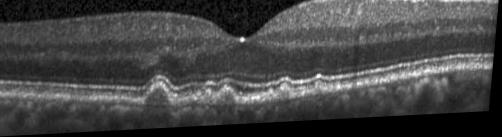retinal_drusen: (147, 89, 174, 110), (219, 93, 238, 108), (278, 90, 292, 101), (316, 86, 328, 98), (206, 94, 216, 106), (307, 96, 315, 101), (270, 96, 276, 101)
